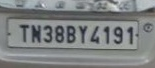1: (126, 26, 136, 46), (103, 26, 113, 45)
3: (42, 25, 54, 43)
4: (90, 25, 102, 44)
8: (55, 25, 65, 44)
9: (112, 26, 125, 45)
B: (66, 25, 77, 44)
N: (30, 24, 43, 44)
T: (19, 24, 31, 43)
Y: (78, 25, 89, 44)
